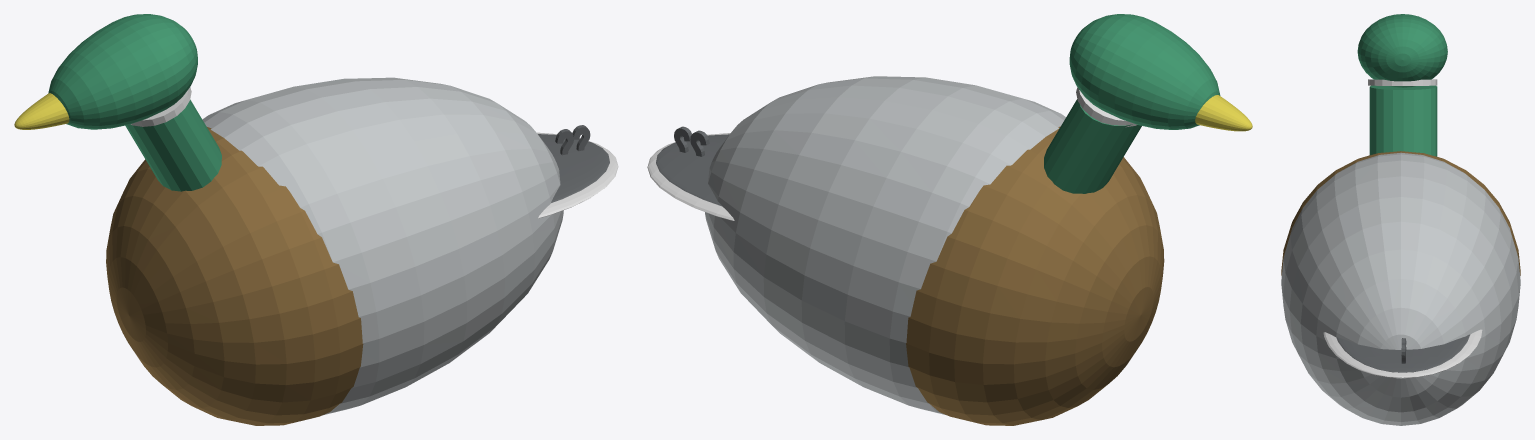
The model's file is patito.gltf.
3 views of the same model, side by side, from view 1: azimuth 30°, elevation 25°; view 2: azimuth 150°, elevation 25°; view 3: azimuth 270°, elevation 25° (orthographic). The views are drawn at different scales.
Visible parts, largest first — view 1: Mesh_Mesh_head_geo.001_lambert2SG.001; view 2: Mesh_Mesh_head_geo.001_lambert2SG.001; view 3: Mesh_Mesh_head_geo.001_lambert2SG.001.
Boxes of the visible parts, x1,y1,x2,y2 form: Mesh_Mesh_head_geo.001_lambert2SG.001: [14, 14, 618, 425]; Mesh_Mesh_head_geo.001_lambert2SG.001: [647, 14, 1252, 425]; Mesh_Mesh_head_geo.001_lambert2SG.001: [1281, 14, 1520, 425].
Bounding box in the file's own units: 36.99 × 25 × 17.
